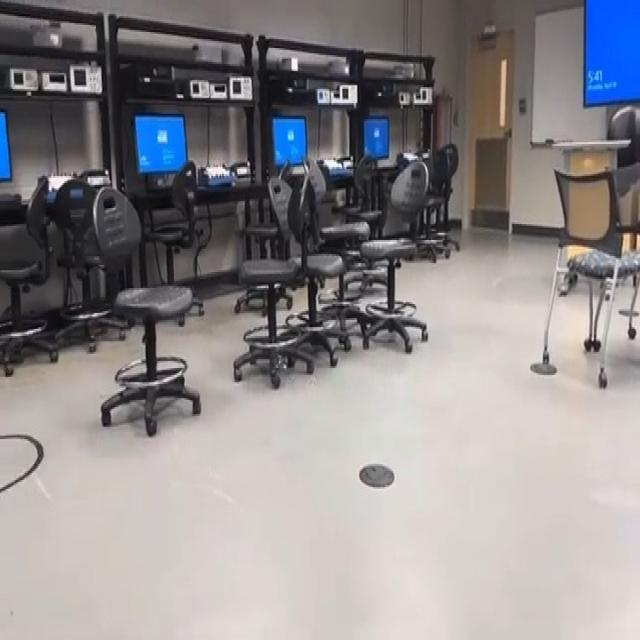drone: (265, 346, 302, 389)
